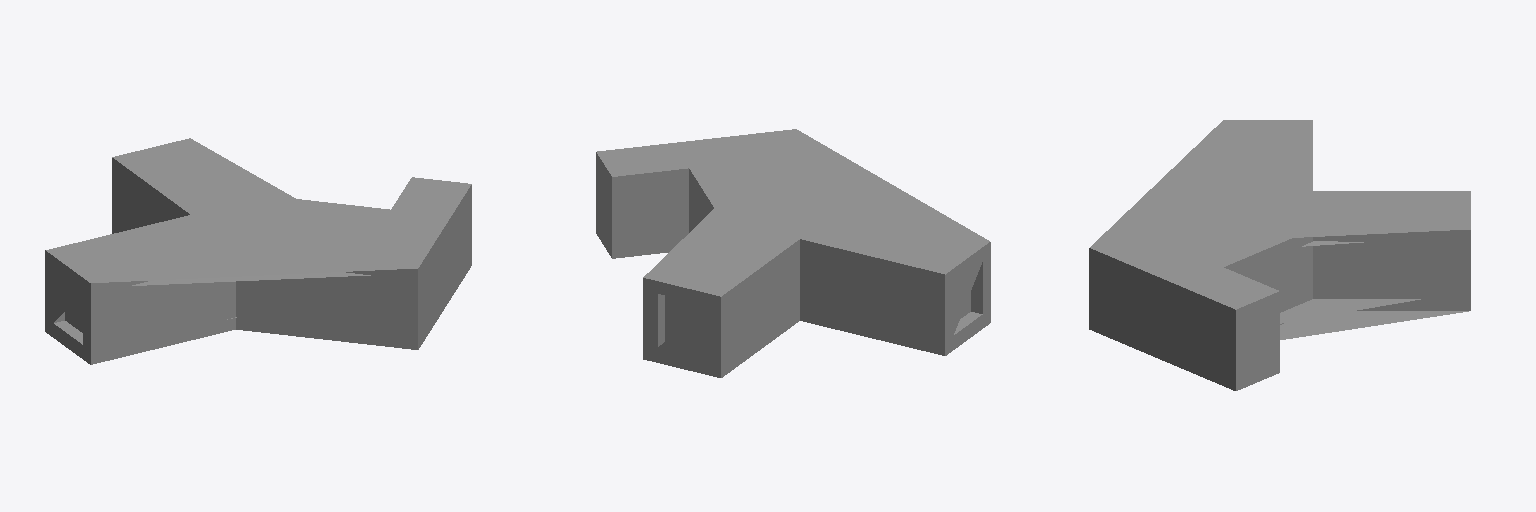
File: thick-into.obj
The picture shows the model from 3 angles: view 1: azimuth 30°, elevation 25°; view 2: azimuth 150°, elevation 25°; view 3: azimuth 270°, elevation 25°; orthographic projection.
Visible parts, largest first — view 1: Cube; view 2: Cube; view 3: Cube.
Part boxes in pixels (x1,y1,x2,y2): Cube: (45, 138, 471, 364); Cube: (596, 129, 990, 377); Cube: (1089, 120, 1470, 390).
Size of the model in its own units: 16.89 by 3.4 by 14.37.